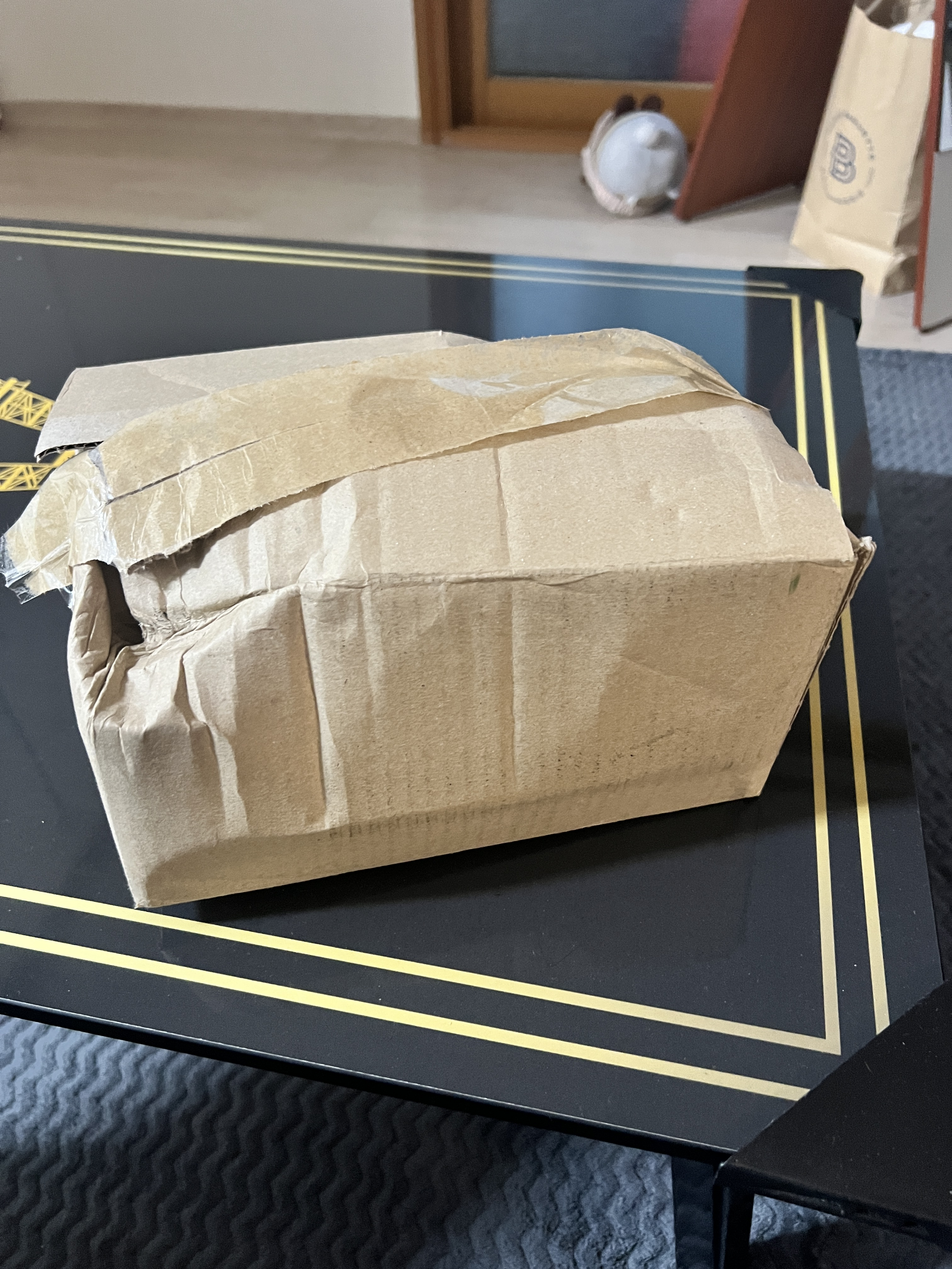damaged package: (0, 413, 356, 805)
